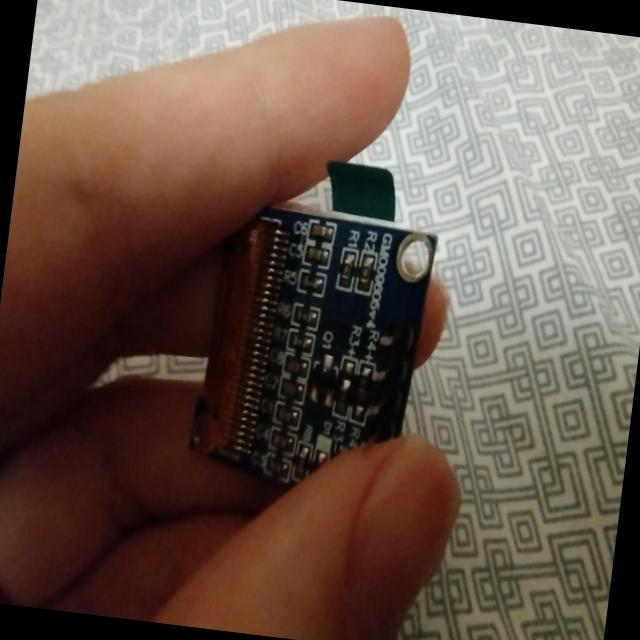oled: (188, 147, 447, 519)
